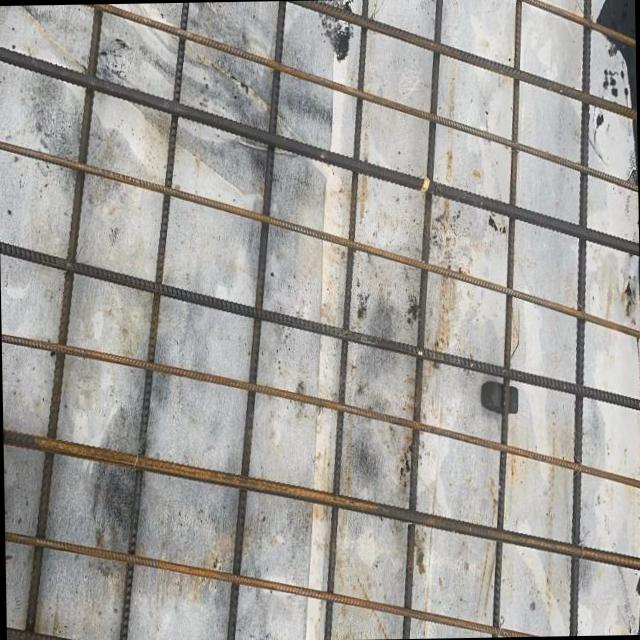ribbed bar: (0, 36, 639, 271), (0, 124, 640, 352), (0, 229, 640, 422), (1, 315, 640, 502), (102, 0, 637, 203), (2, 417, 640, 584), (10, 5, 113, 640), (4, 521, 536, 640), (106, 4, 199, 640), (214, 2, 297, 640), (290, 0, 636, 129), (312, 1, 381, 640), (390, 0, 454, 638), (479, 0, 533, 637), (557, 0, 603, 636), (519, 0, 635, 50), (6, 623, 98, 640)
